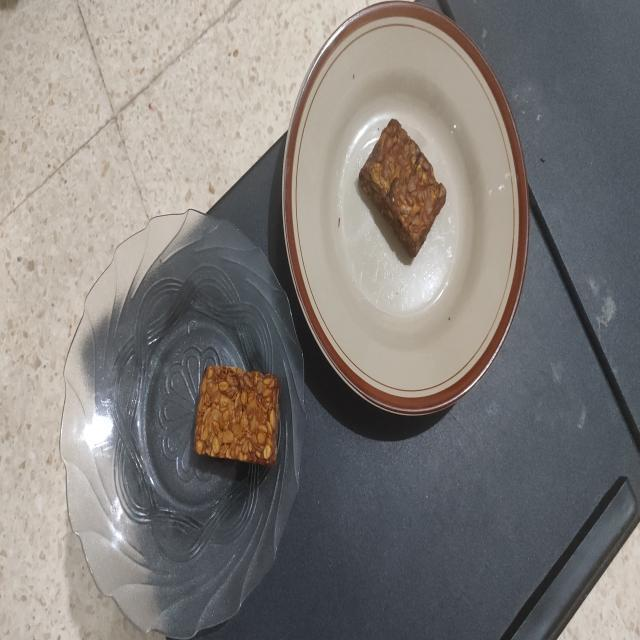tempe_goreng: (359, 120, 445, 256), (195, 366, 281, 465)
